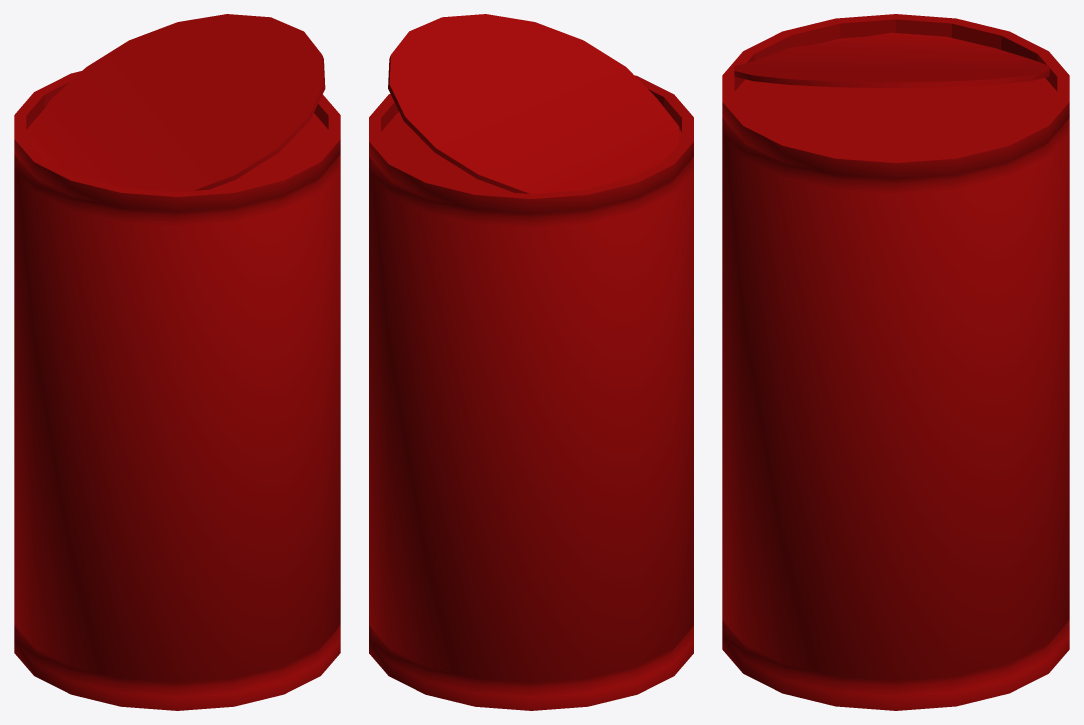
Rendered from LataTomate.fbx.
The picture shows the model from 3 angles, left to right: view 1: azimuth 30°, elevation 25°; view 2: azimuth 150°, elevation 25°; view 3: azimuth 270°, elevation 25°; orthographic projection. The views are drawn at different scales.
Parts seen in each view (by area): view 1: Cylinder009, TapaLata; view 2: Cylinder009, TapaLata; view 3: Cylinder009, TapaLata.
Part boxes in pixels (x1,y1,x2,y2): Cylinder009: [14, 71, 340, 710]; TapaLata: [32, 14, 325, 191]; Cylinder009: [369, 75, 693, 710]; TapaLata: [388, 14, 679, 193]; Cylinder009: [722, 14, 1069, 710]; TapaLata: [734, 32, 1049, 87].
Size of the model in its own units: 3.01 by 5.81 by 2.96.
